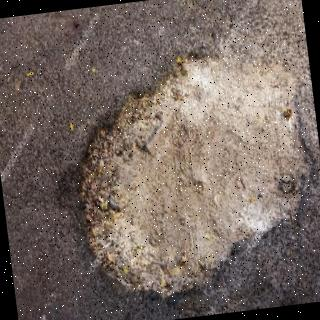pothole: (81, 33, 312, 297)
